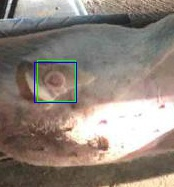text: (37, 60, 75, 101)
